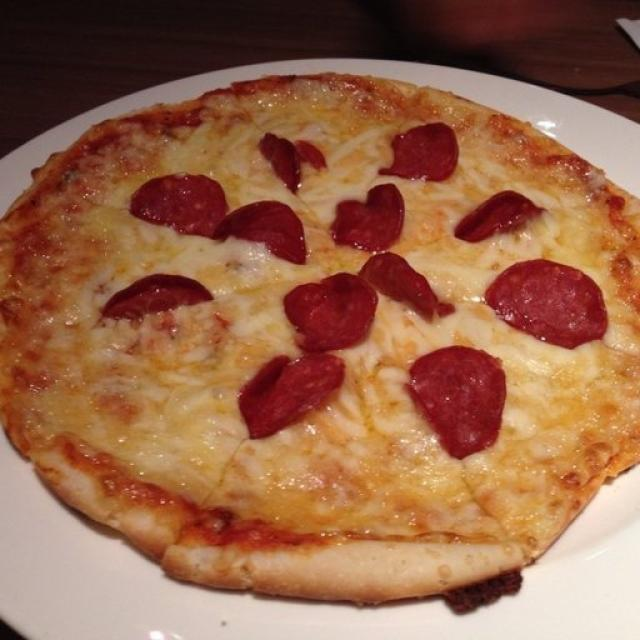Pepperoni: (399, 339, 507, 466), (492, 256, 612, 342), (241, 355, 347, 432), (285, 265, 375, 348), (129, 169, 220, 238), (99, 270, 206, 321), (216, 199, 310, 256), (359, 255, 444, 313), (325, 184, 402, 242), (258, 128, 328, 191), (449, 196, 539, 243), (389, 118, 451, 176)
Pizza: (0, 74, 640, 609)
